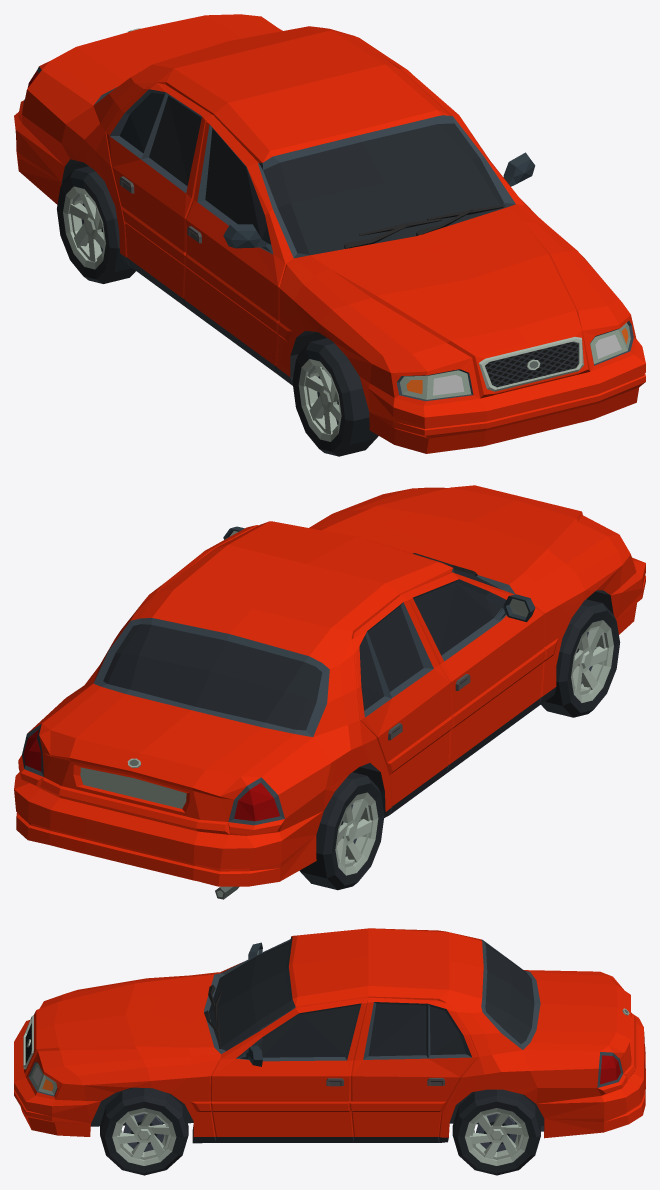
Rendered from Sedan_Red.fbx.
3 renders of one model, top to bottom at view 1: azimuth 30°, elevation 25°; view 2: azimuth 150°, elevation 25°; view 3: azimuth 270°, elevation 25°, orthographic. The views are drawn at different scales.
Parts seen in each view (by area): view 1: SM_Veh_Car_Sedan_01.005, SM_Veh_Car_Sedan_Wheel_fr.005, SM_Veh_Car_Sedan_Wheel_rr.005; view 2: SM_Veh_Car_Sedan_01.005, SM_Veh_Car_Sedan_Wheel_rr.005, SM_Veh_Car_Sedan_Wheel_fr.005; view 3: SM_Veh_Car_Sedan_01.005, SM_Veh_Car_Sedan_Wheel_fl.005, SM_Veh_Car_Sedan_Wheel_rl.005.
Boxes of the visible parts, x1,y1,x2,y2 form: SM_Veh_Car_Sedan_01.005: [14, 14, 645, 453]; SM_Veh_Car_Sedan_Wheel_fr.005: [292, 338, 378, 456]; SM_Veh_Car_Sedan_Wheel_rr.005: [57, 166, 135, 283]; SM_Veh_Car_Sedan_01.005: [14, 485, 645, 899]; SM_Veh_Car_Sedan_Wheel_rr.005: [299, 772, 384, 890]; SM_Veh_Car_Sedan_Wheel_fr.005: [541, 599, 620, 717]; SM_Veh_Car_Sedan_01.005: [14, 928, 645, 1143]; SM_Veh_Car_Sedan_Wheel_fl.005: [100, 1087, 188, 1175]; SM_Veh_Car_Sedan_Wheel_rl.005: [452, 1089, 540, 1175].
Size of the model in its own units: 2.25 by 1.59 by 5.34.
